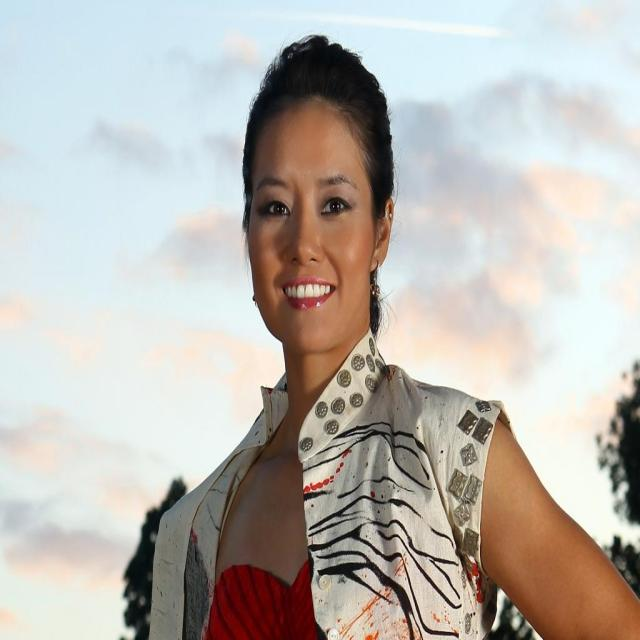Face: (247, 80, 395, 345)
